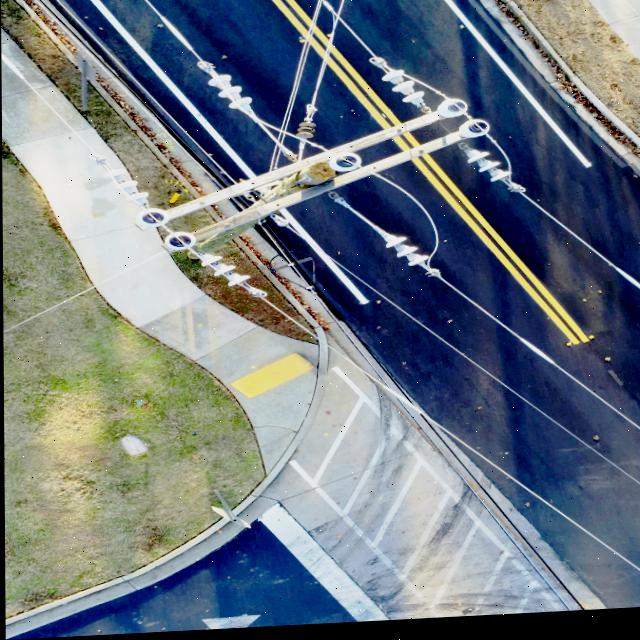poles: (88, 154, 267, 306), (267, 213, 366, 307), (332, 201, 439, 282), (459, 122, 524, 200), (197, 63, 268, 132), (89, 0, 154, 68), (368, 61, 431, 119), (270, 107, 330, 166), (212, 136, 256, 180), (241, 176, 296, 209), (186, 106, 215, 136), (329, 157, 362, 176), (435, 103, 466, 122)
wires: (362, 375, 640, 581), (437, 282, 640, 439), (259, 296, 316, 342), (342, 357, 361, 375)
